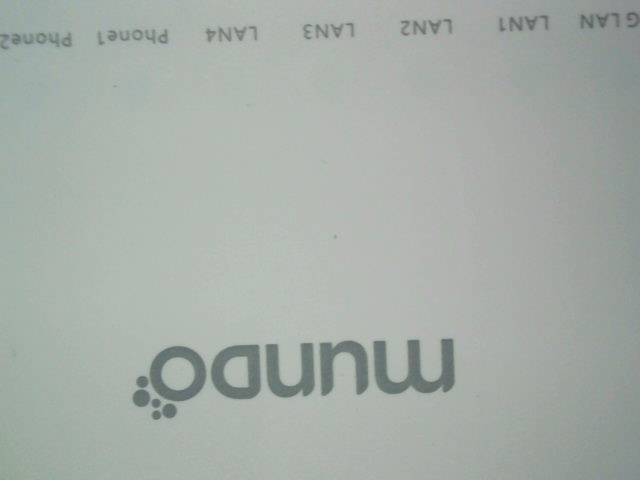BI_MUNDO: (119, 328, 464, 425)
